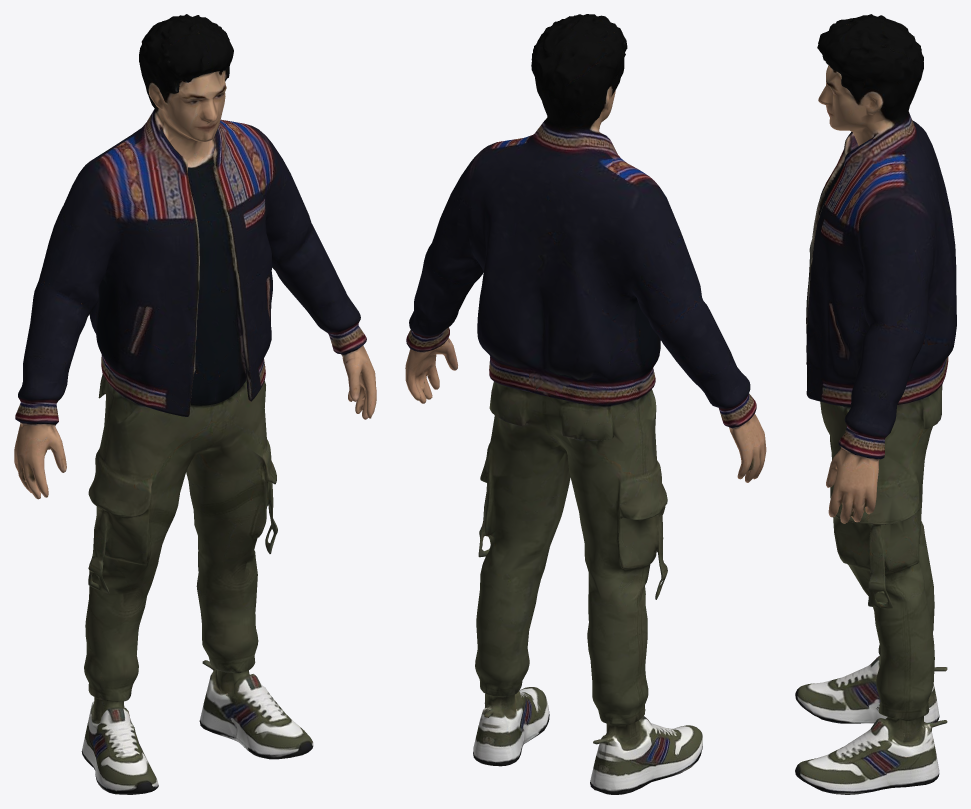
File: avatar1.glb
3 renders of one model, left to right at view 1: azimuth 30°, elevation 25°; view 2: azimuth 150°, elevation 25°; view 3: azimuth 270°, elevation 25°, orthographic.
Size of the model in its own units: 0.9403 by 1.89 by 0.3795.
Materials: 1 (1 with a texture image).
